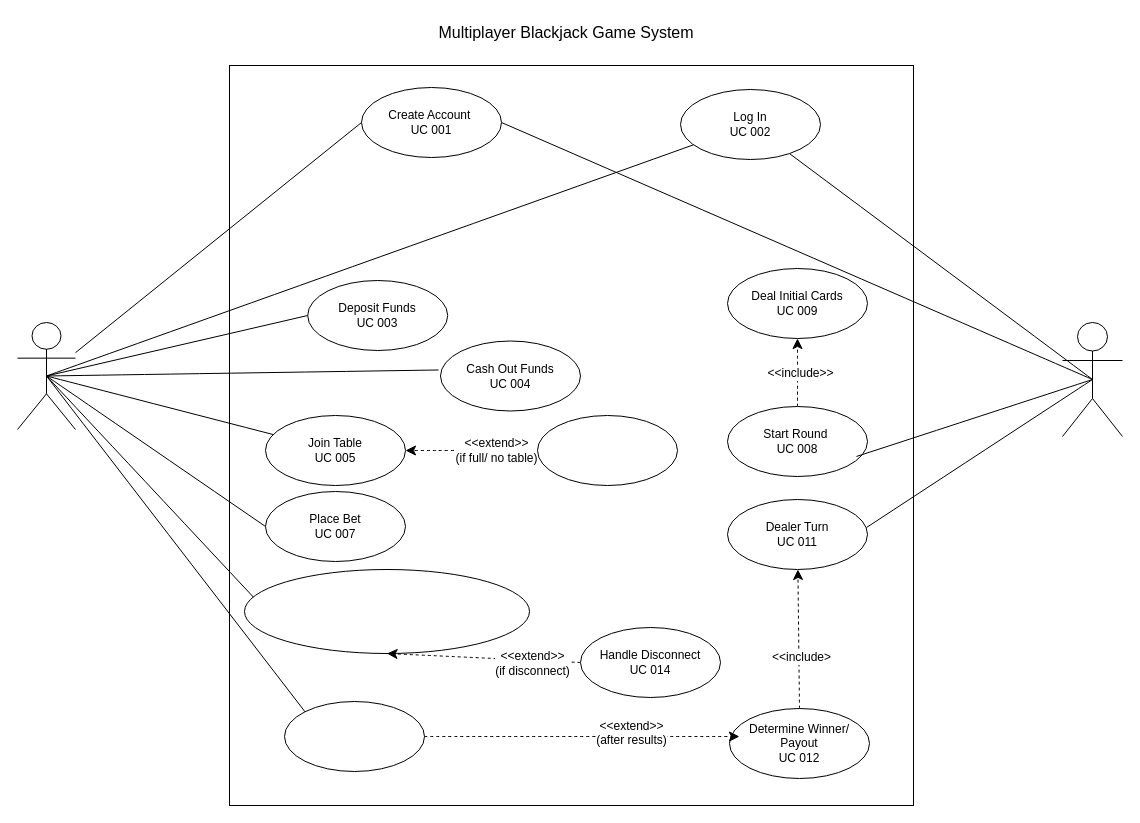
Image size: 1140x823. Some labels were removed from this diagram. The centre of each missing label's shape, as x and y in pixels:
Create New Table UC 006: point (607, 450)
Dealer: point (1092, 379)
Player: point (46, 376)
Player Turn (Hit/ Stand/ Fold) UC 010: point (387, 611)
Replay/Return UC 013: point (354, 736)
